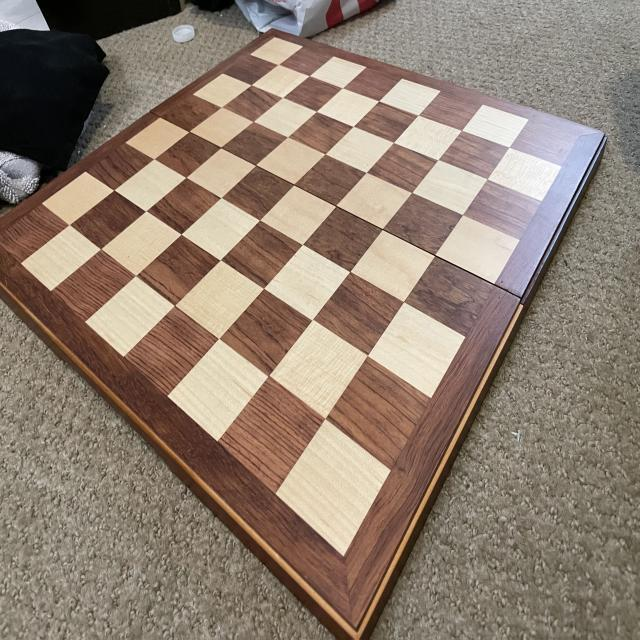chess-table-corners: (316, 512, 388, 592), (550, 120, 590, 168), (264, 31, 300, 58), (0, 221, 20, 266)
